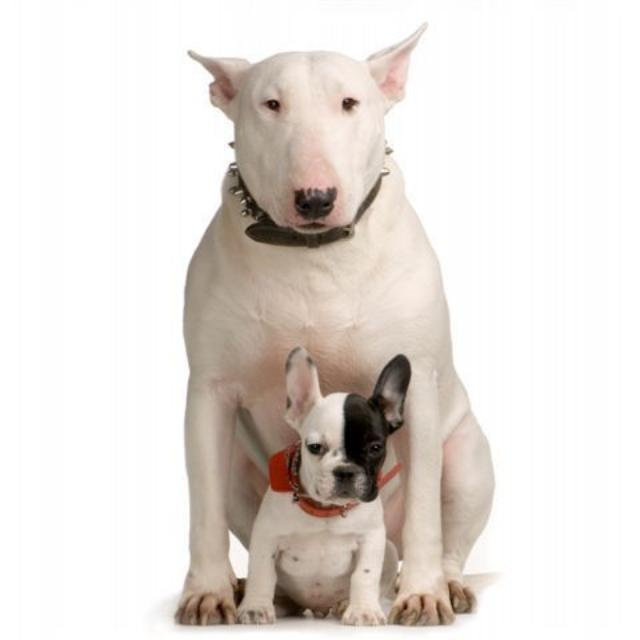bullterrier: (174, 20, 498, 628)
other_dog_breed: (233, 345, 411, 627)
